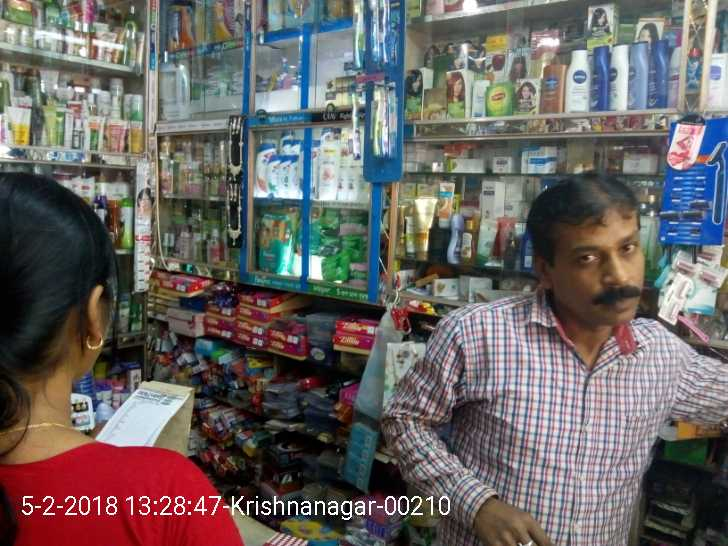oralcare: (347, 1, 401, 182)
